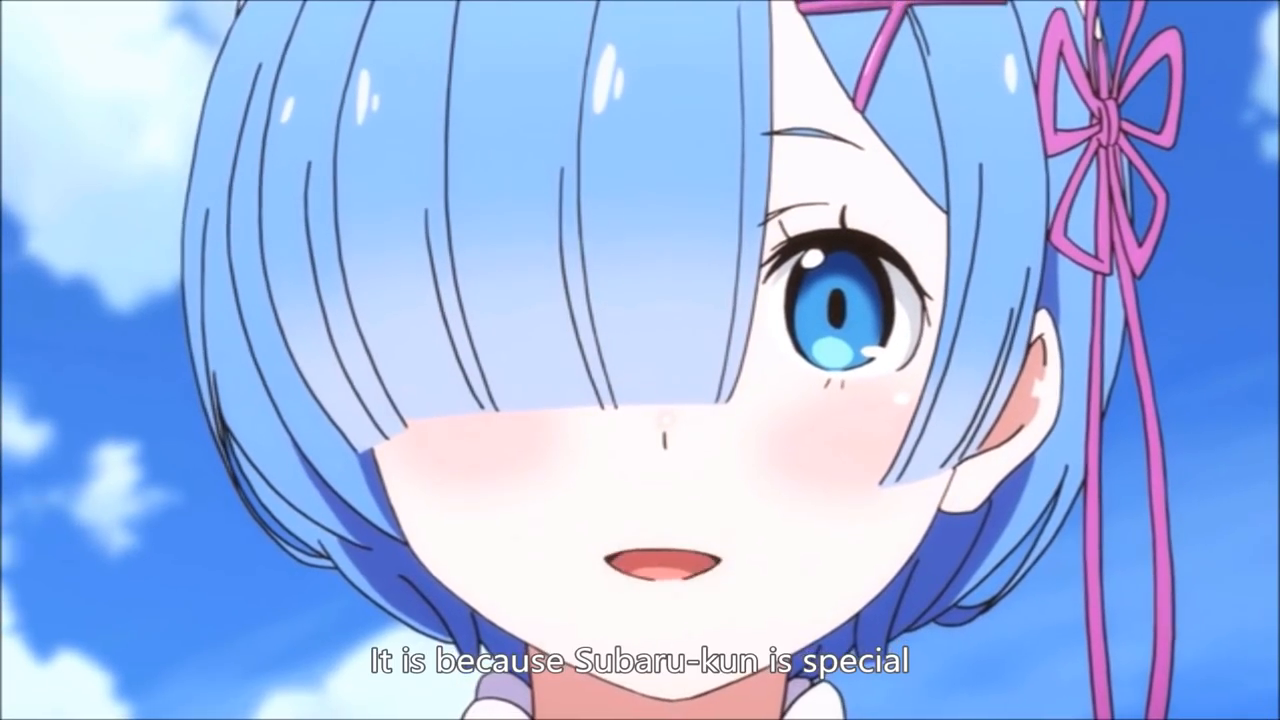REM: (177, 4, 1143, 699)
